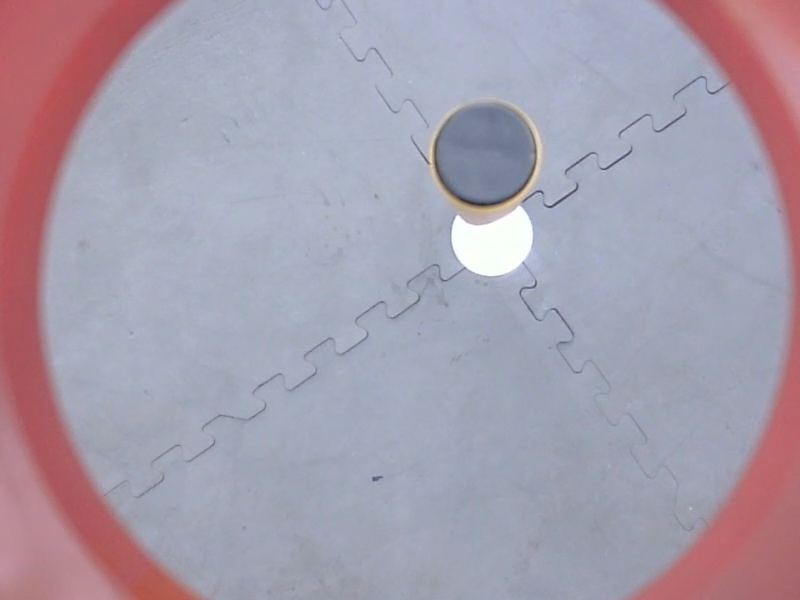tip: (423, 92, 550, 216)
